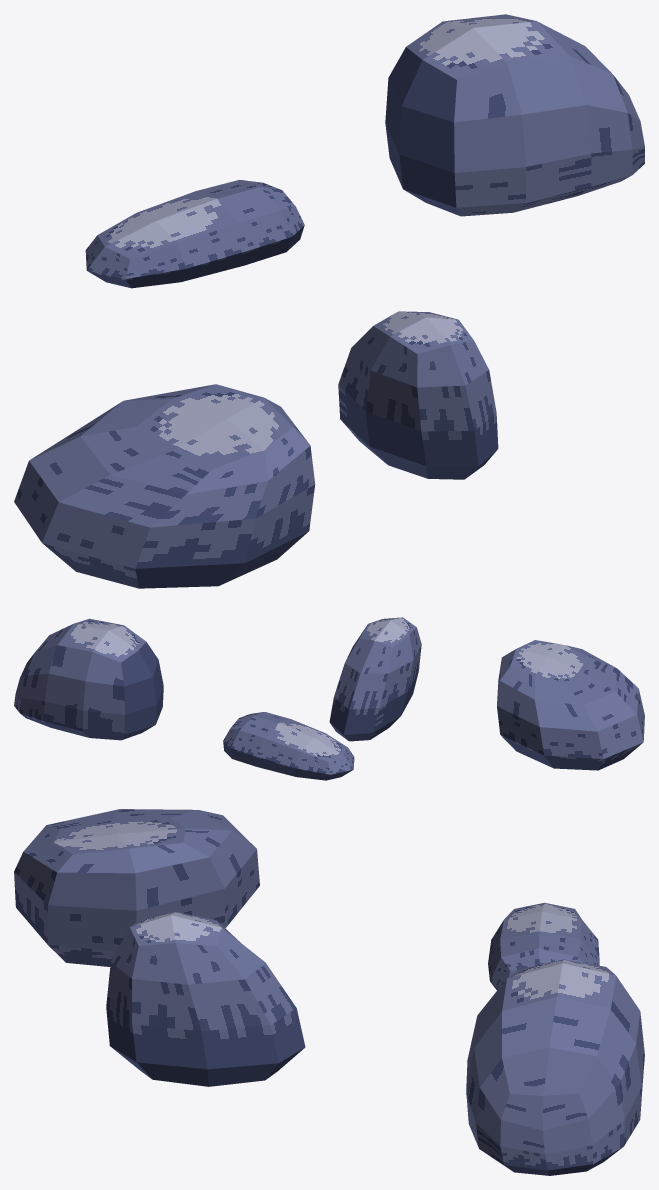
The model's file is Rocks.fbx.
The picture shows the model from 3 angles, top to bottom: view 1: azimuth 30°, elevation 25°; view 2: azimuth 150°, elevation 25°; view 3: azimuth 270°, elevation 25°; orthographic projection. The views are drawn at different scales.
Visible parts, largest first — view 1: Cube.002, Cube.003, Cube, Cube.001; view 2: Cube.002, Cube.003, Cube, Cube.001; view 3: Cube.003, Cube.002, Cube, Cube.001.
Boxes of the visible parts, bbox=[...] form: Cube.002: bbox=[14, 384, 315, 588]; Cube.003: bbox=[385, 14, 644, 216]; Cube: bbox=[338, 311, 498, 479]; Cube.001: bbox=[85, 180, 304, 288]; Cube.002: bbox=[497, 640, 644, 770]; Cube.003: bbox=[14, 618, 163, 740]; Cube: bbox=[329, 617, 421, 741]; Cube.001: bbox=[223, 712, 354, 780]; Cube.003: bbox=[466, 959, 644, 1175]; Cube.002: bbox=[14, 809, 259, 966]; Cube: bbox=[106, 911, 305, 1086]; Cube.001: bbox=[488, 902, 599, 990].
Size of the model in its own units: 1426 by 408 by 1034.
